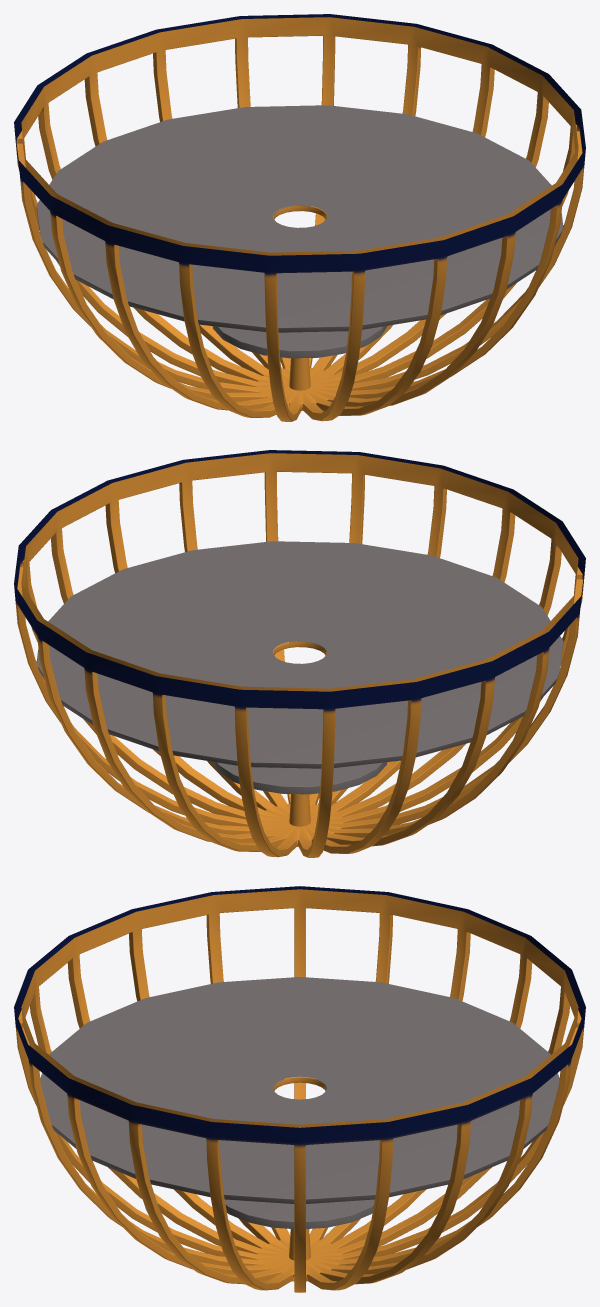
Rendered from ShipBottom.fbx.
The picture shows the model from 3 angles, top to bottom: view 1: azimuth 30°, elevation 25°; view 2: azimuth 150°, elevation 25°; view 3: azimuth 270°, elevation 25°; orthographic projection.
Parts seen in each view (by area): view 1: ShipBottom; view 2: ShipBottom; view 3: ShipBottom.
Part boxes in pixels (bbox=[...]): ShipBottom: bbox=[14, 14, 585, 421]; ShipBottom: bbox=[14, 450, 585, 857]; ShipBottom: bbox=[14, 886, 585, 1292].
Size of the model in its own units: 1880 by 930 by 1880.
Materials: 1 (1 with a texture image).
